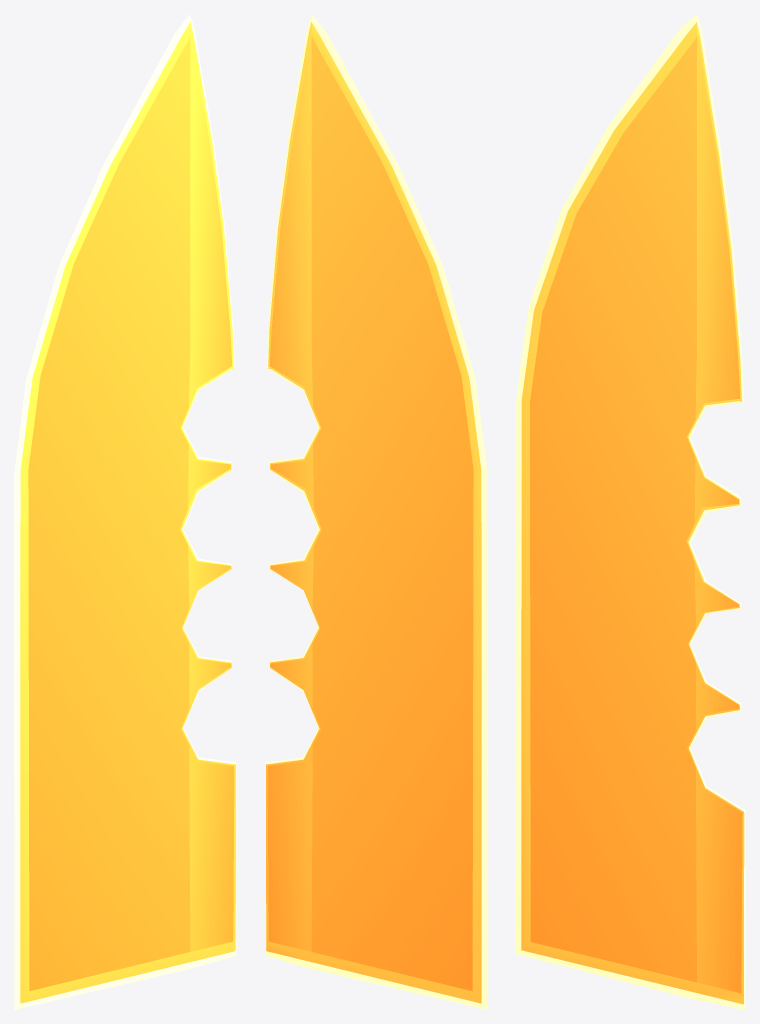
The model's file is gold_blade (21).glb.
3 views of the same model, side by side, from view 1: azimuth 30°, elevation 25°; view 2: azimuth 150°, elevation 25°; view 3: azimuth 330°, elevation 25° (orthographic). The views are drawn at different scales.
Visible parts, largest first — view 1: gold_blade_steel.042; view 2: gold_blade_steel.042; view 3: gold_blade_steel.042.
Part boxes in pixels (<box>): gold_blade_steel.042: <box>14,14,236,1009</box>; gold_blade_steel.042: <box>265,14,487,1009</box>; gold_blade_steel.042: <box>516,14,745,1009</box>.
Bounding box in the file's own units: 2.79 × 11.43 × 0.0204.
1 material, 1 textured.
